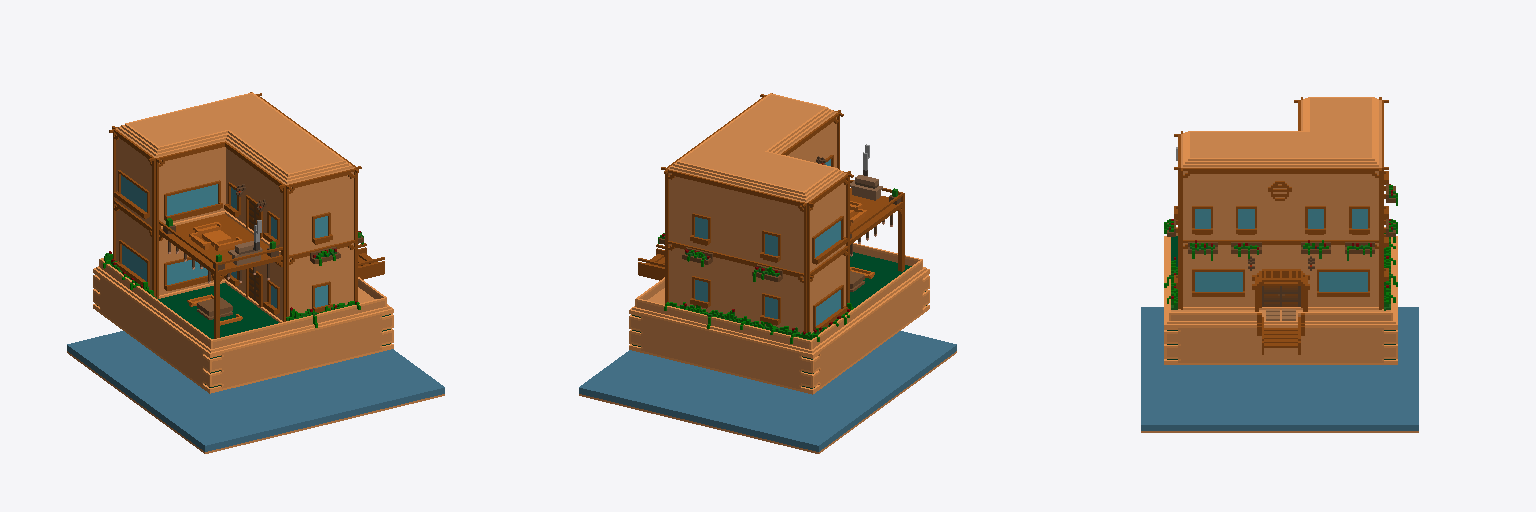
3 renders of one model, left to right at view 1: azimuth 30°, elevation 25°; view 2: azimuth 150°, elevation 25°; view 3: azimuth 270°, elevation 25°, orthographic.
Visible parts, largest first — view 1: object 1; view 2: object 1; view 3: object 1.
Boxes of the visible parts, box(x1,y1,x2,y2) form: object 1: box(67, 92, 444, 453); object 1: box(579, 93, 956, 453); object 1: box(1141, 97, 1418, 432).
Size of the model in its own units: 12 by 11.3 by 12.
1 materials, 1 textured.